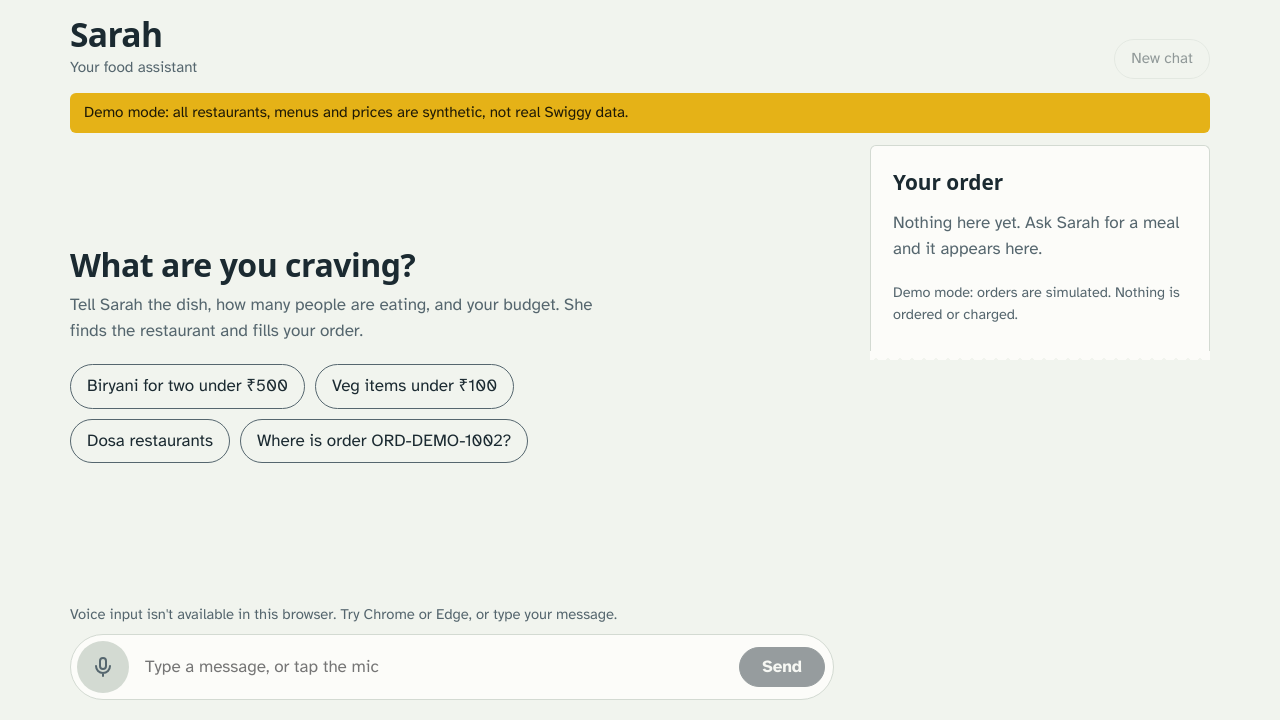
it: ChatApp: text › types and sends, clears the box, and keeps Send disabled for blank input
Check: the button "Send" is disabled, box [739,647,825,687]
In the field named "Message to Sarah": x=434, y=667 [139,644,729,690], type "hi"
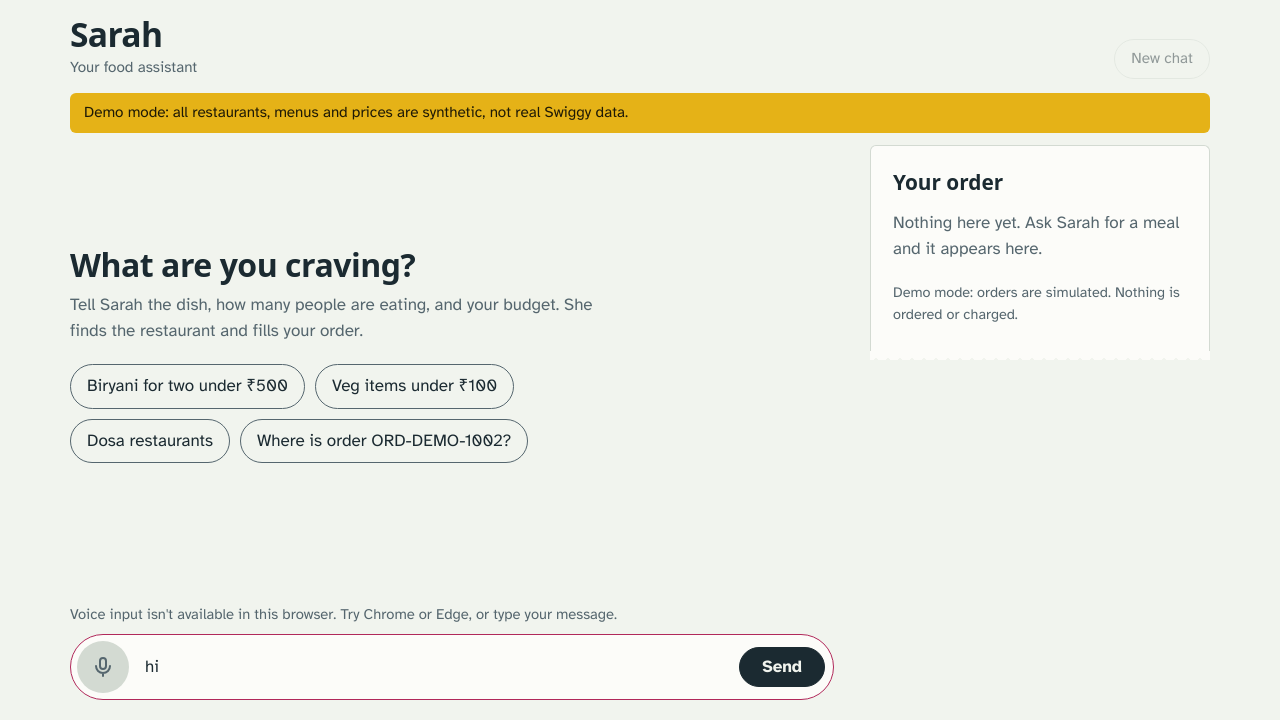
Check: the button "Send" is enabled, box [739,647,825,687]
Press Enter
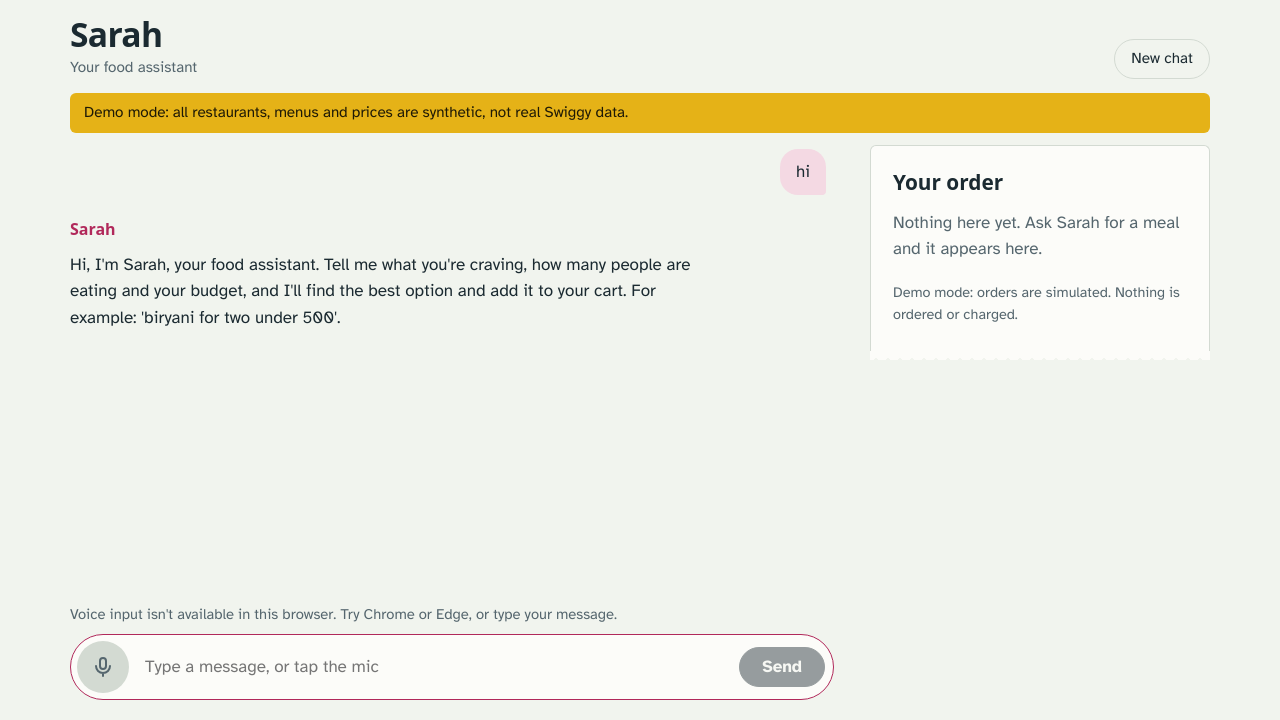
Check: the field named "Message to Sarah" is empty, box [139,644,729,690]
Check: the text "Hi, I'm Sarah" is shown, box [70,254,690,328]
